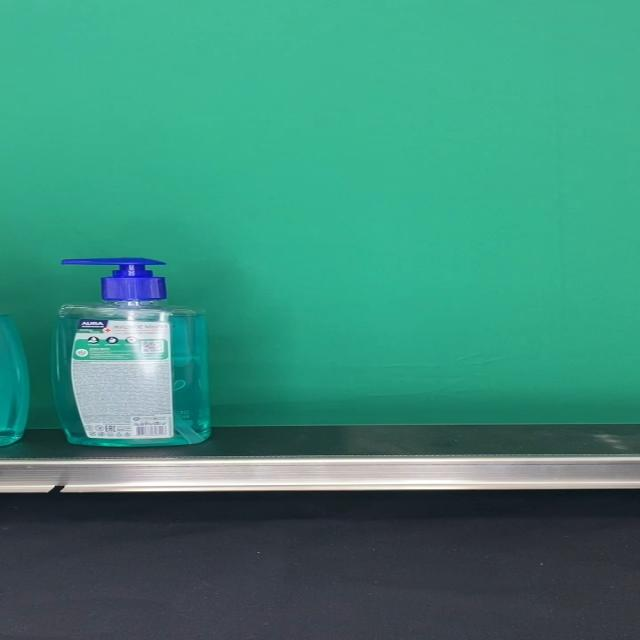Bottle: (52, 257, 212, 447)
Cap: (63, 257, 167, 300)
